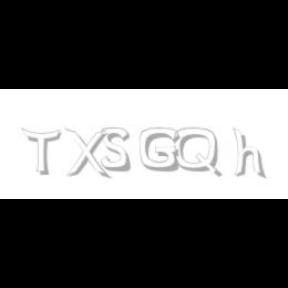G: (140, 128, 180, 172)
Q: (174, 128, 220, 178)
S: (101, 128, 132, 172)
T: (21, 128, 61, 176)
X: (64, 128, 108, 180)
h: (233, 128, 268, 180)
